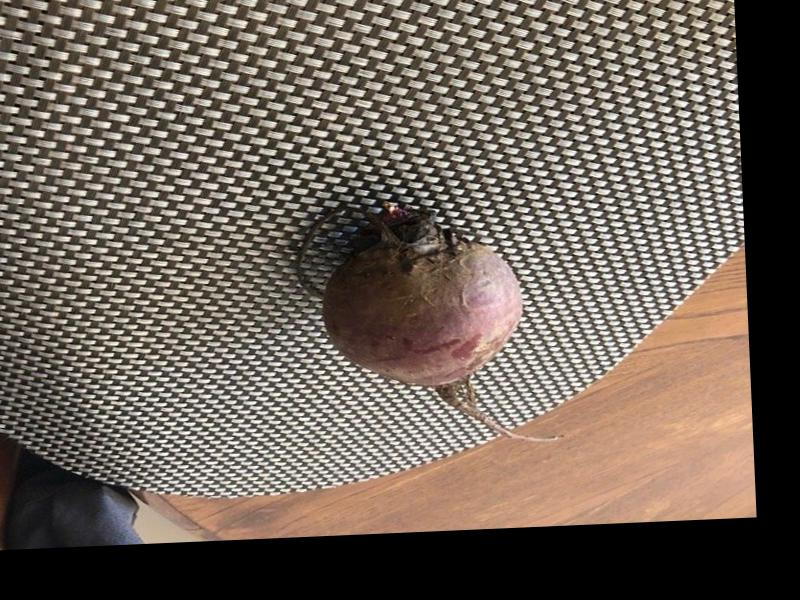Beet: (290, 195, 561, 452)
